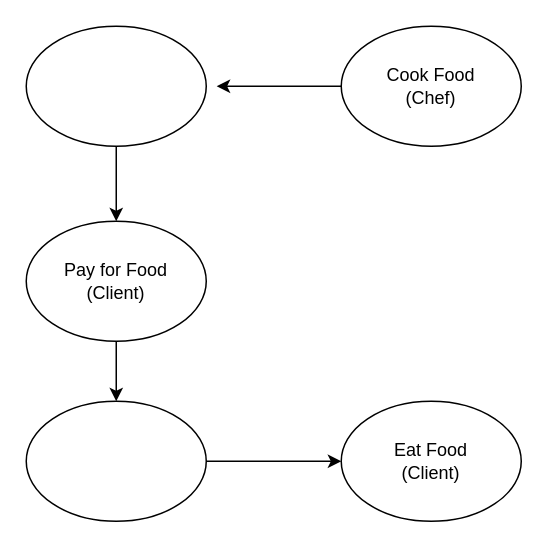
The diagram is 548 pixels wide and 548 high, and some of its shapes have lost their labels. The shapes that lost their labels are listed below. From the top down, each one's centre as x and y in pixels, then its label:
pixel 115 85: Order Food (Client)
pixel 115 460: Deliver Food (Worker)
